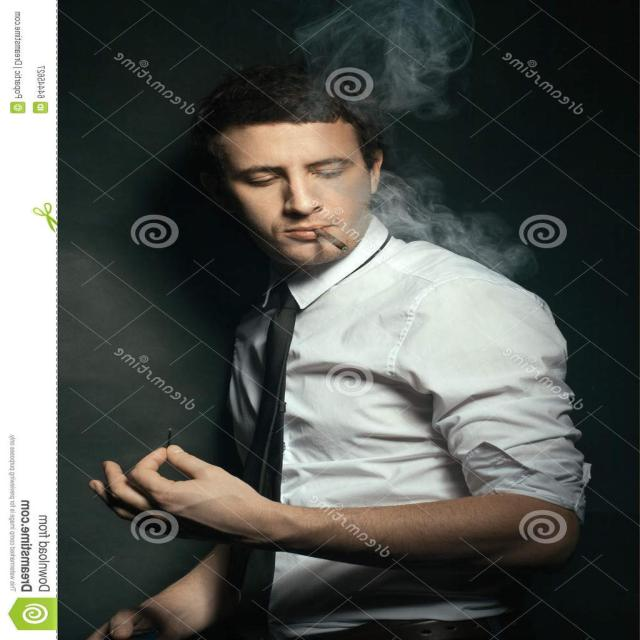smoking: (190, 74, 419, 271)
